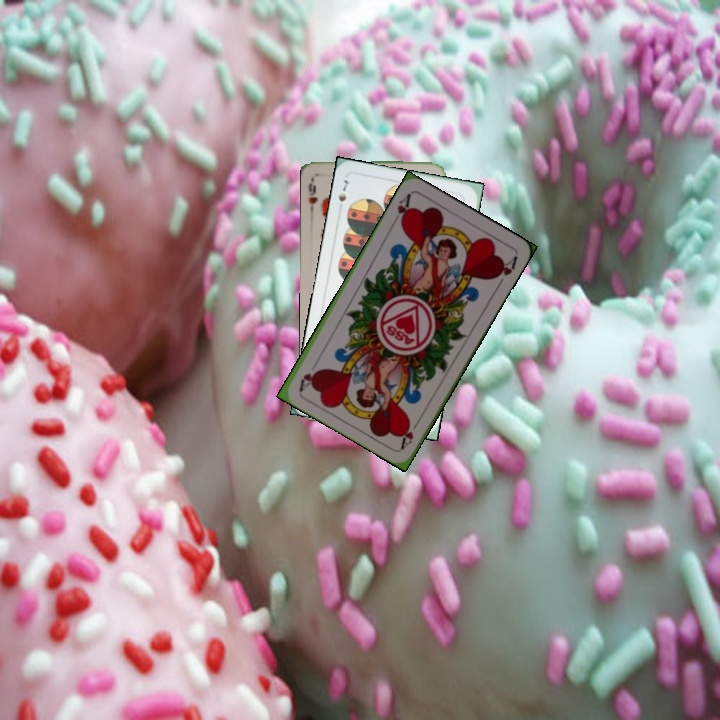H9: (305, 175, 320, 216)
HA: (397, 414, 424, 451), (388, 189, 414, 227)
S7: (334, 176, 351, 214)
